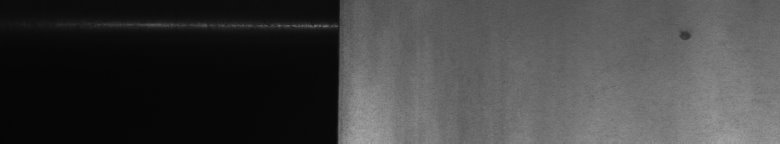fi: (675, 24, 696, 48)
